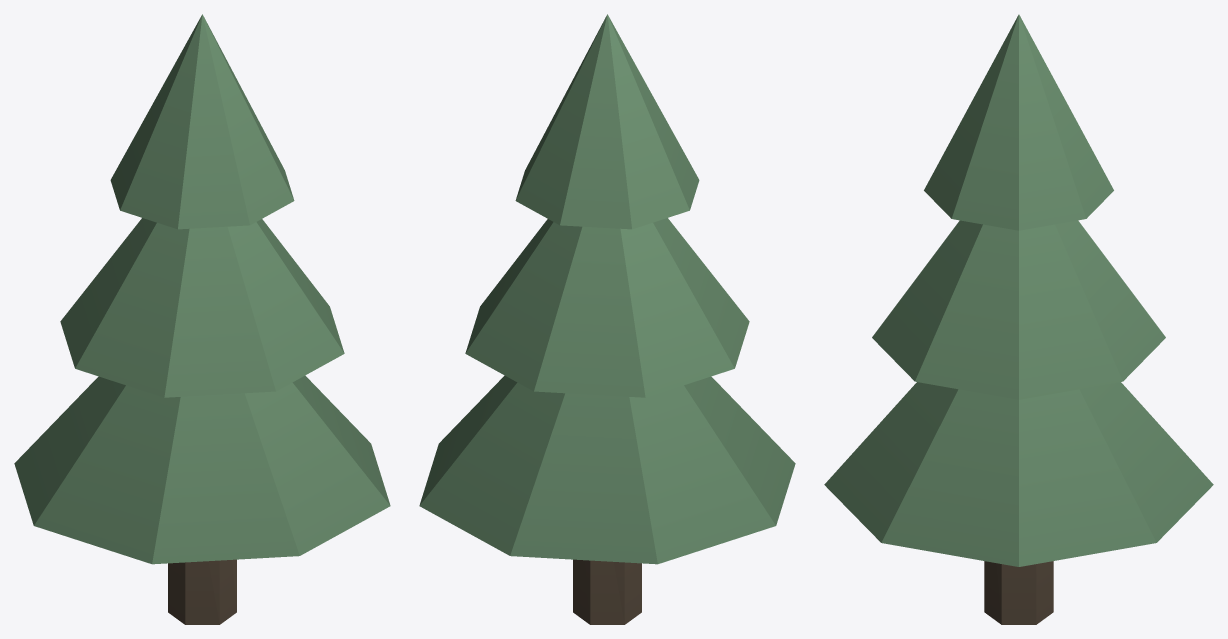
File: pine.glb
3 views of the same model, side by side, from view 1: azimuth 30°, elevation 25°; view 2: azimuth 150°, elevation 25°; view 3: azimuth 270°, elevation 25° (orthographic).
Visible parts, largest first — view 1: pine; view 2: pine; view 3: pine.
Boxes of the visible parts, x1,y1,x2,y2 form: pine: (14, 14, 390, 624); pine: (419, 14, 795, 624); pine: (824, 14, 1213, 624).
Bounding box in the file's own units: 0.9 × 1.52 × 0.9.
